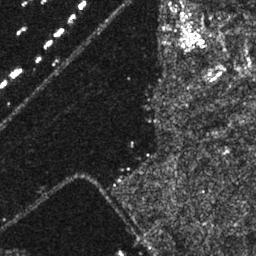ship: (9, 67, 23, 78), (15, 25, 27, 37), (41, 38, 53, 49), (53, 26, 64, 37), (67, 13, 76, 24), (76, 1, 87, 10), (1, 79, 8, 89), (35, 54, 41, 63)
